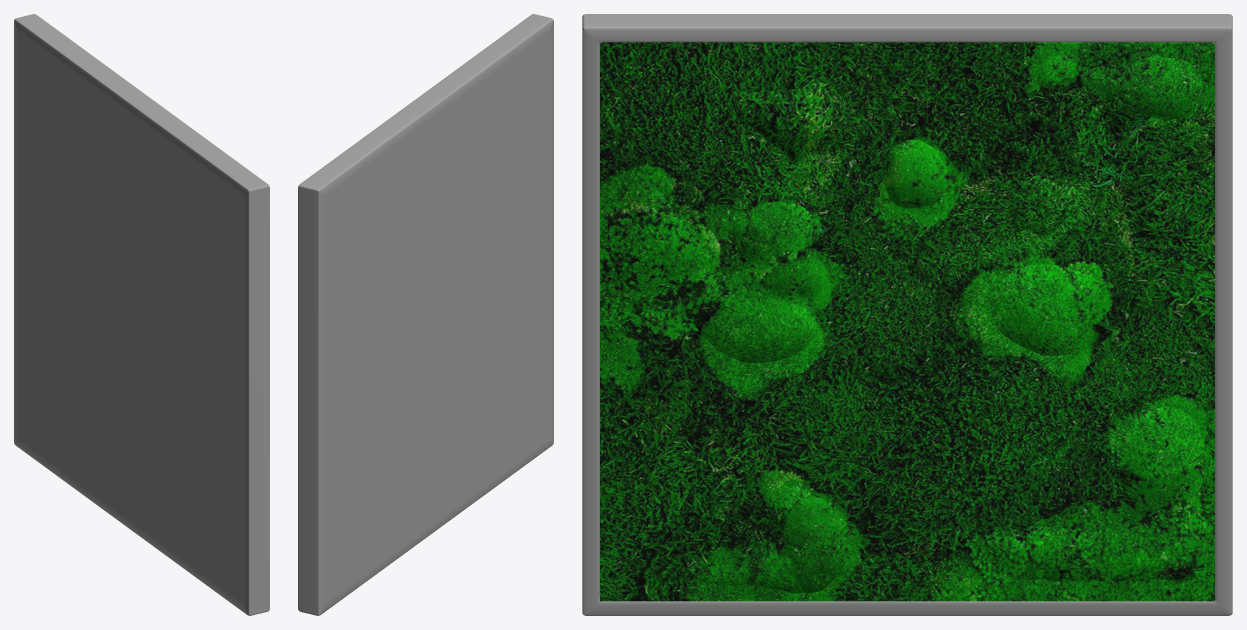
File: Moosbild_Mixmoos_550x550mm_white.fbx
3 views of the same model, side by side, from view 1: azimuth 30°, elevation 25°; view 2: azimuth 150°, elevation 25°; view 3: azimuth 270°, elevation 25° (orthographic). The views are drawn at different scales.
Parts seen in each view (by area): view 1: edge; view 2: edge; view 3: moss_low, moss7, edge.
Part boxes in pixels (x1,y1,x2,y2): edge: (14,14,269,615); edge: (298,14,553,615); moss_low: (600,43,1214,601); moss7: (601,42,1213,593); edge: (582,14,1232,615).
Bounding box in the file's own units: 4.48 × 55 × 55.
Materials: 2 (1 with a texture image).
